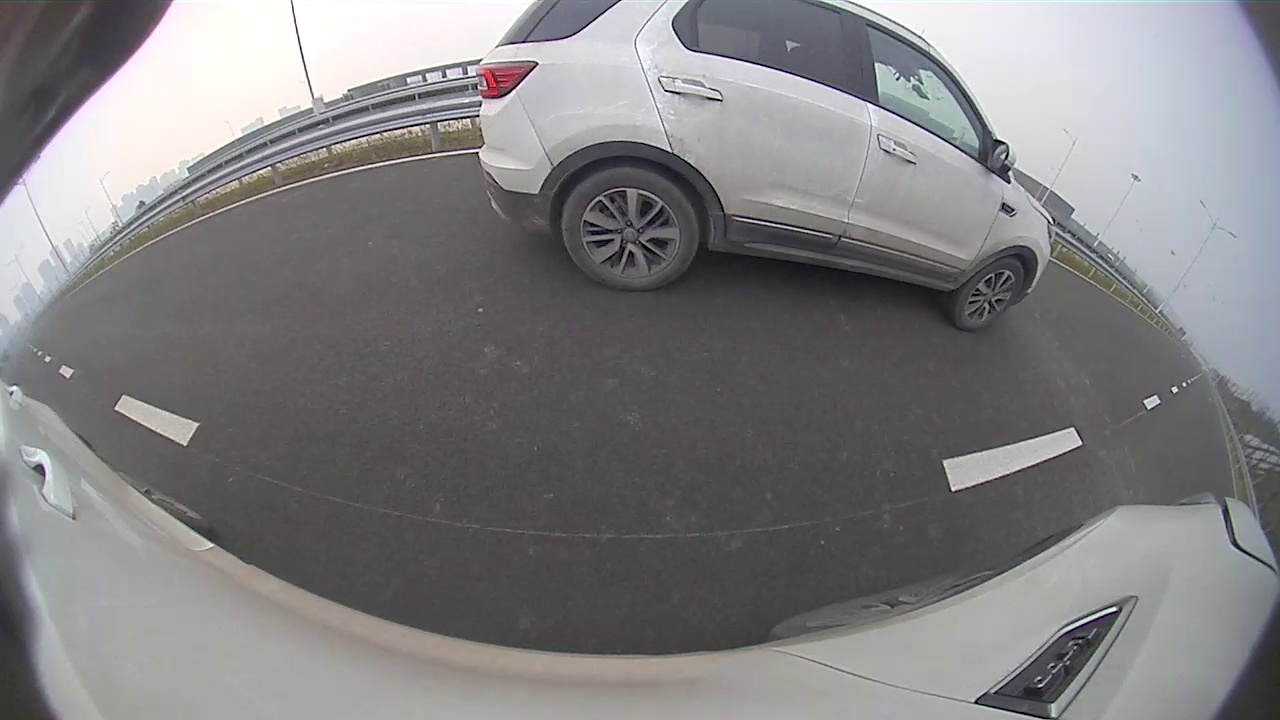car: (477, 1, 1055, 327)
front: (959, 258, 1024, 328)
rear: (563, 164, 700, 293)
